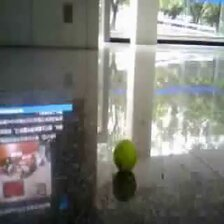tennis: (112, 140, 137, 169)
